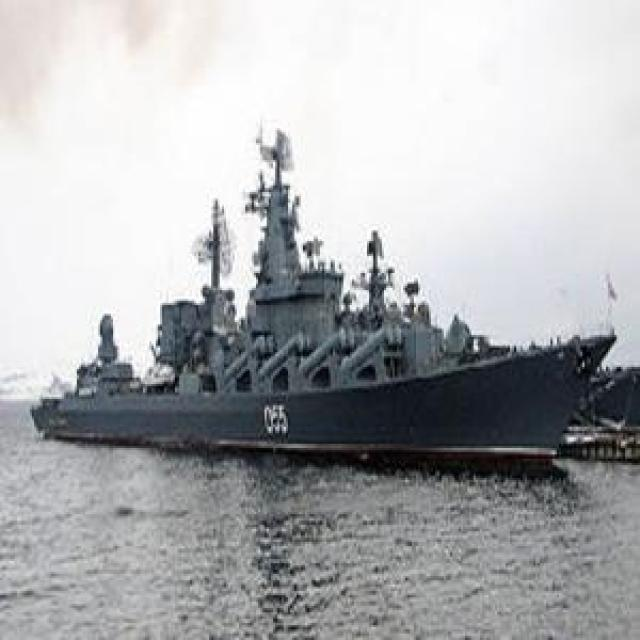navalvessels: (40, 132, 624, 475)
